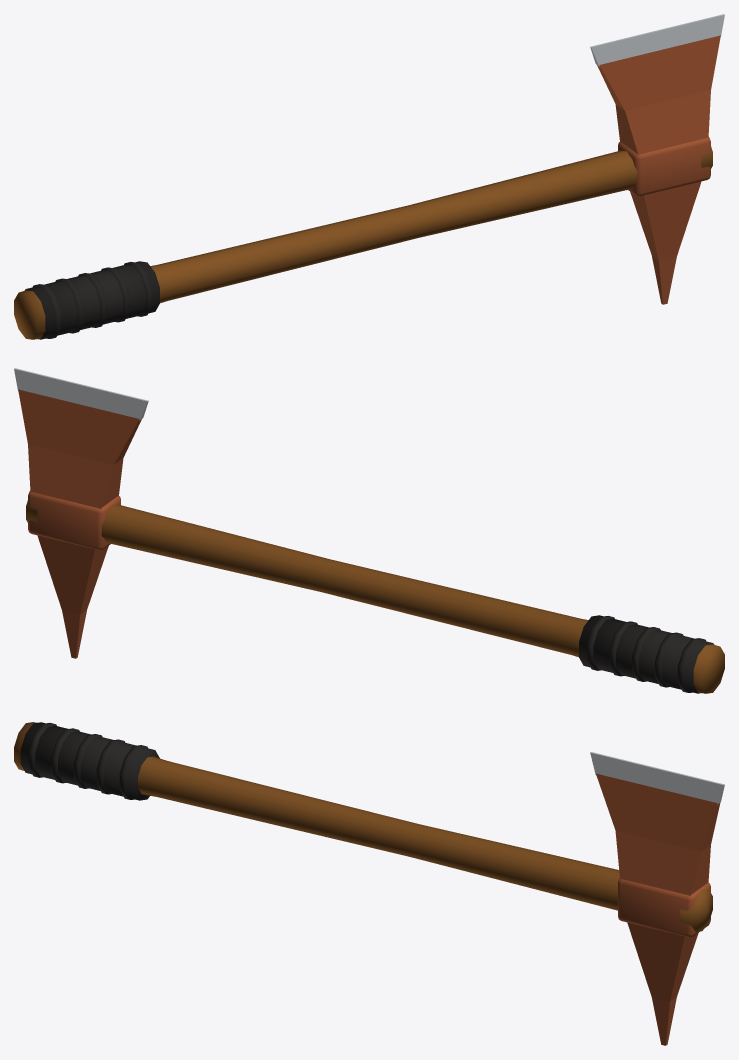
File: item_fire_axe.glb
3 views of the same model, one above another, from view 1: azimuth 30°, elevation 25°; view 2: azimuth 150°, elevation 25°; view 3: azimuth 330°, elevation 25° (orthographic).
Visible parts, largest first — view 1: haft, blade, grip, pick, eye, edge; view 2: haft, blade, grip, pick, eye, edge; view 3: haft, blade, grip, pick, eye, edge.
Boxes of the visible parts, x1,y1,x2,y2 form: haft: [14, 146, 712, 339]; blade: [597, 35, 720, 155]; grip: [25, 261, 159, 339]; pick: [630, 181, 701, 304]; eye: [618, 137, 710, 196]; edge: [590, 14, 724, 66]; haft: [26, 500, 724, 693]; blade: [18, 389, 141, 509]; grip: [579, 615, 713, 693]; pick: [37, 535, 108, 658]; eye: [28, 491, 120, 550]; edge: [14, 368, 148, 420]; haft: [14, 722, 712, 931]; blade: [596, 773, 720, 895]; grip: [20, 722, 159, 800]; pick: [627, 922, 698, 1045]; eye: [618, 878, 710, 937]; edge: [590, 752, 724, 804].
Size of the model in its own units: 0.919 by 0.345 by 0.0612.
